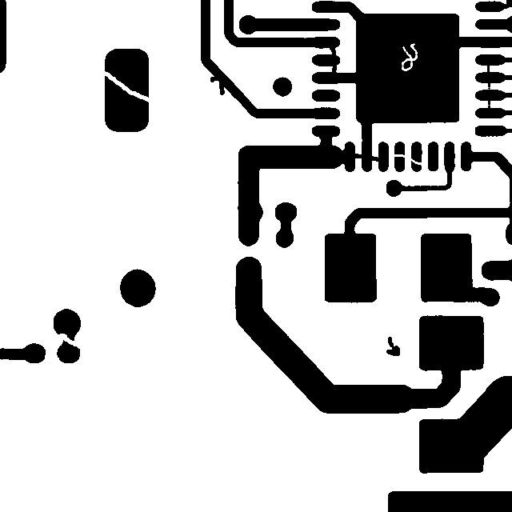copper: (378, 329, 407, 363)
open: (92, 62, 159, 110), (382, 146, 430, 173), (51, 326, 89, 356)
pin-hole: (394, 35, 425, 78)
short: (479, 50, 498, 124), (318, 34, 344, 86), (342, 145, 389, 169)
spur: (202, 60, 232, 102)
